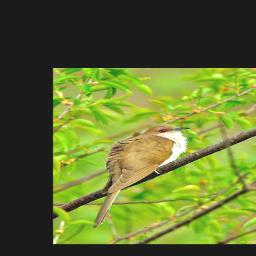Cuckoo: (90, 124, 192, 230)
